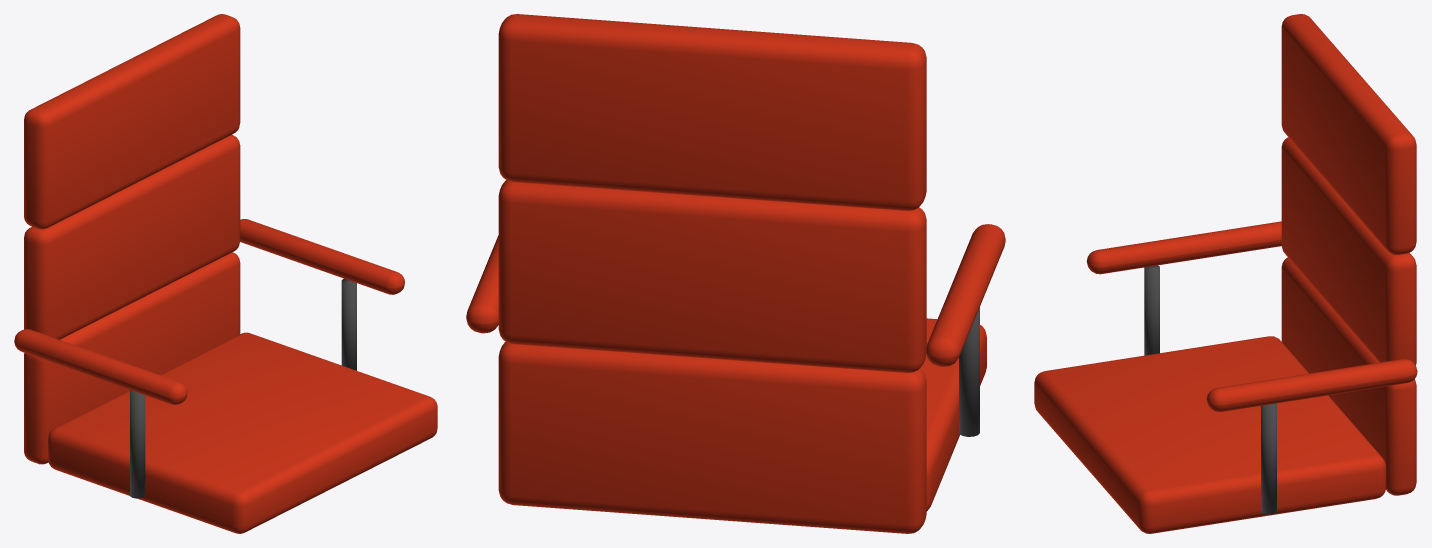
Rendered from seatTop.glb.
3 renders of one model, left to right at view 1: azimuth 30°, elevation 25°; view 2: azimuth 150°, elevation 25°; view 3: azimuth 270°, elevation 25°, orthographic. The views are drawn at different scales.
Visible parts, largest first — view 1: seat, Cube.003, Cube.002, Cube.001, Cube.005, Cube.004, seat_moving, Cylinder.023; view 2: Cube.003, Cube.002, Cube.001, Cube.005, seat, seat_moving, Cube.004; view 3: seat, Cube.003, Cube.002, Cube.001, Cube.004, Cube.005, Cylinder.023, seat_moving.
Part boxes in pixels (x1,y1,x2,y2): seat: [48, 332, 437, 533]; Cube.003: [24, 14, 240, 229]; Cube.002: [24, 135, 240, 339]; Cube.001: [24, 252, 240, 464]; Cube.005: [14, 329, 187, 404]; Cube.004: [240, 219, 404, 294]; seat_moving: [130, 390, 145, 498]; Cylinder.023: [341, 278, 356, 370]; Cube.003: [498, 14, 926, 210]; Cube.002: [498, 180, 926, 372]; Cube.001: [498, 341, 926, 533]; Cube.005: [926, 224, 1005, 366]; seat: [920, 318, 986, 511]; seat_moving: [959, 307, 979, 436]; Cube.004: [466, 235, 498, 333]; seat: [1034, 336, 1385, 533]; Cube.003: [1281, 14, 1416, 254]; Cube.002: [1281, 137, 1416, 365]; Cube.001: [1281, 257, 1416, 495]; Cube.004: [1206, 359, 1417, 411]; Cube.005: [1086, 221, 1281, 274]; Cylinder.023: [1261, 403, 1276, 514]; seat_moving: [1144, 265, 1159, 355].
Size of the model in its own units: 0.7183 by 0.6784 by 0.6544.
